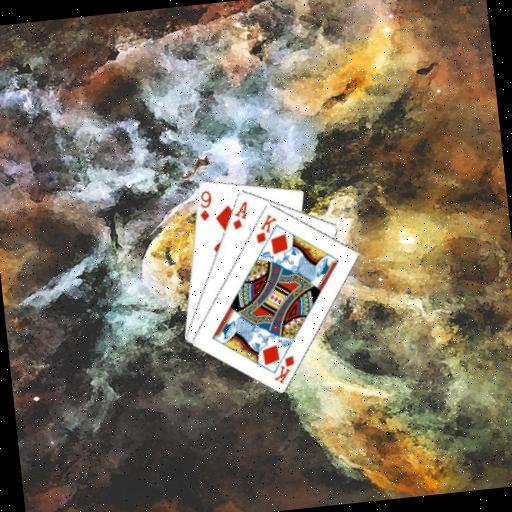9D: (194, 186, 216, 223)
AD: (227, 198, 251, 232)
KD: (251, 210, 281, 245), (269, 351, 299, 386)
